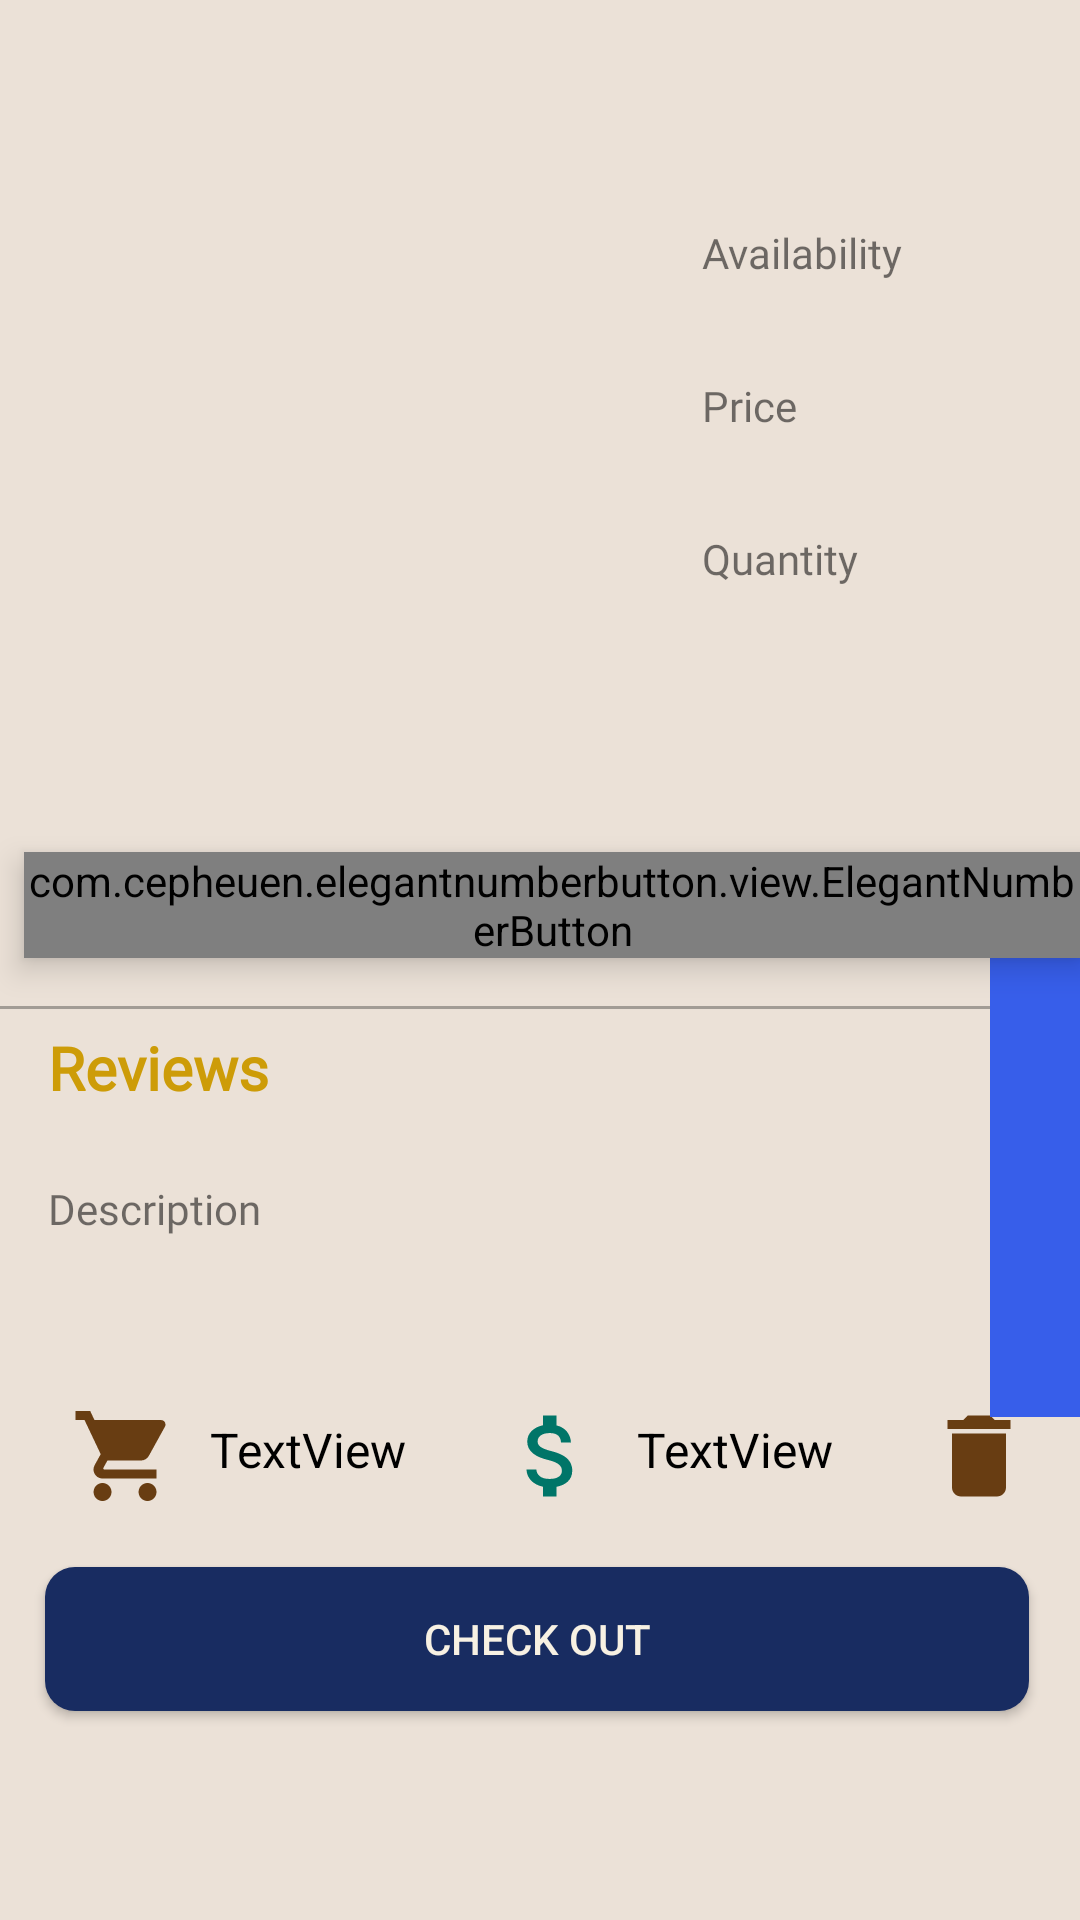

Where icons sit on this 1080 x 1920 app screen, as (x1, y1, x2, y2):
attach money: (526, 1415, 573, 1497)
shopping cart: (75, 1411, 166, 1501)
